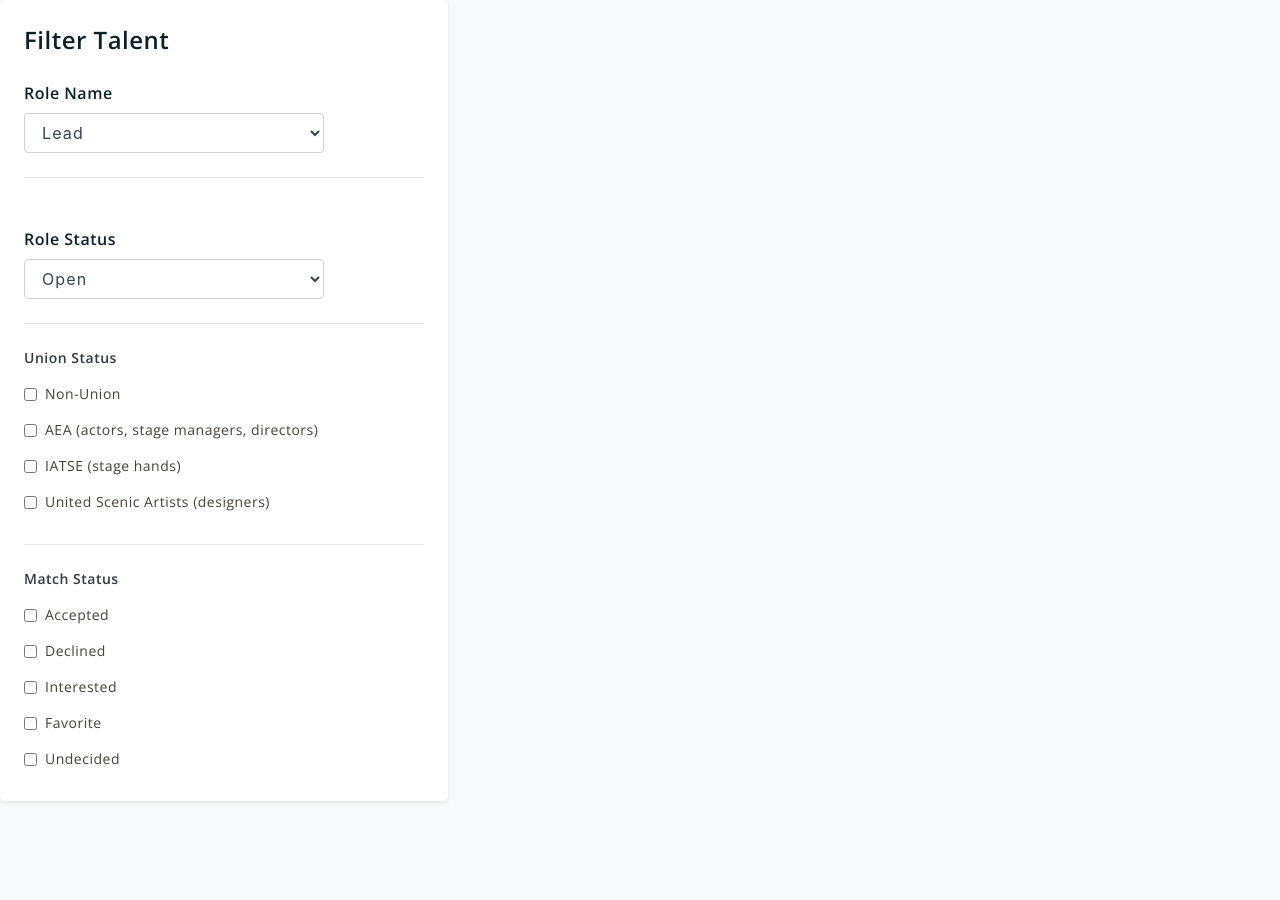
Test: TalentMatchesFilterBar close role › shows a confirmation modal when changing role status from Open to Closed
This screenshot has width=1280, height=900.
Select "Closed" in the dropdown labelled "Role Status" at (174, 279), box x1=24 y1=259 x2=324 y2=299
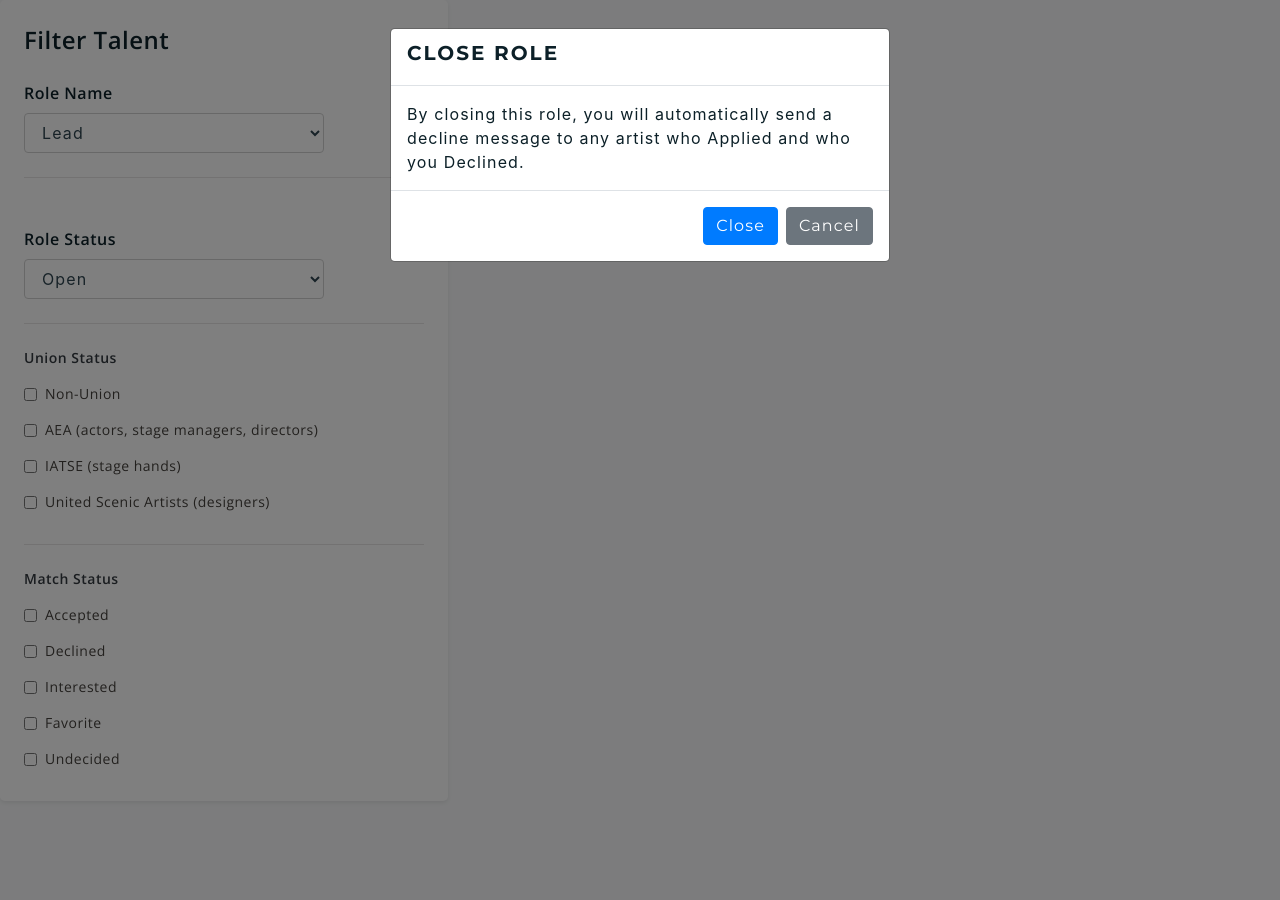
Expected: the text "By closing this role, you will automatically send a decline message to any artist who Applied and who you Declined." is shown, x1=407 y1=104 x2=851 y2=172
Expected: the button "Close" is shown, x1=703 y1=207 x2=778 y2=245
Expected: the button "Cancel" is shown, x1=786 y1=207 x2=873 y2=245
